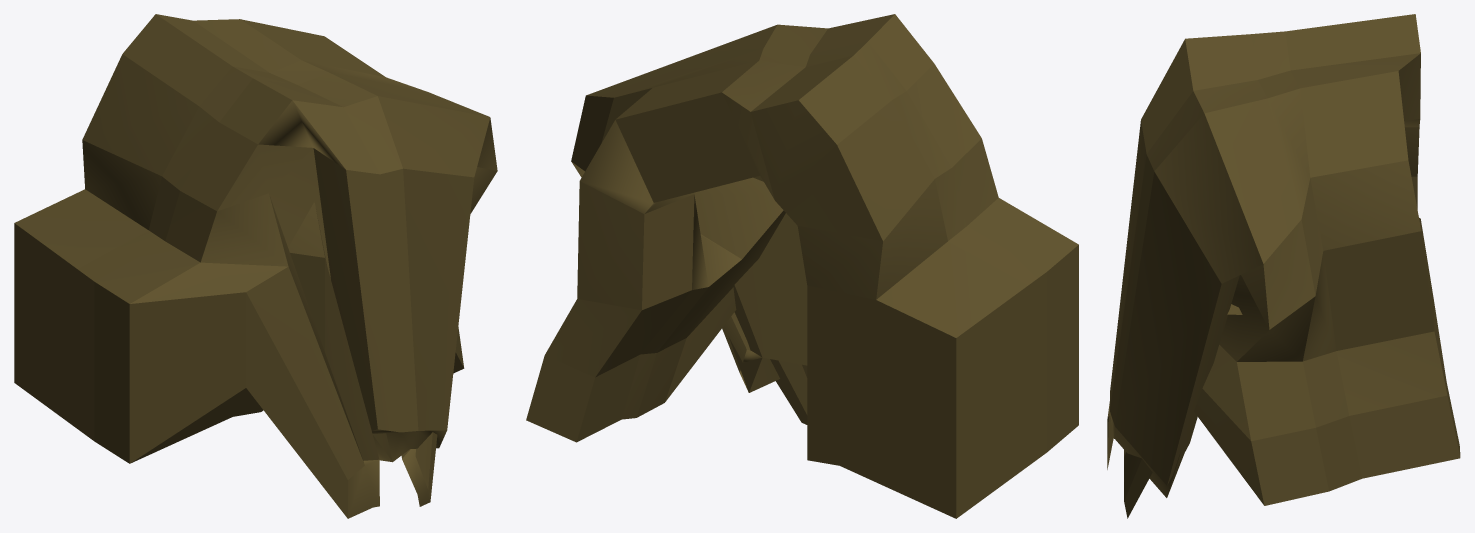
Rendered from SpikeJaw_Cave.obj.
3 views of the same model, side by side, from view 1: azimuth 30°, elevation 25°; view 2: azimuth 150°, elevation 25°; view 3: azimuth 270°, elevation 25° (orthographic). The views are drawn at different scales.
Parts seen in each view (by area): view 1: SpikeJaw_Cave_0, SpikeJaw_Cave_1; view 2: SpikeJaw_Cave_0; view 3: SpikeJaw_Cave_0, SpikeJaw_Cave_1.
Part boxes in pixels (box(x1,y1,x2,y2)): SpikeJaw_Cave_0: box(14, 14, 497, 518); SpikeJaw_Cave_1: box(348, 429, 446, 518); SpikeJaw_Cave_0: box(526, 14, 1078, 518); SpikeJaw_Cave_0: box(1107, 14, 1460, 518); SpikeJaw_Cave_1: box(1107, 412, 1170, 497).
Size of the model in its own units: 3.74 by 3.66 by 2.67.
